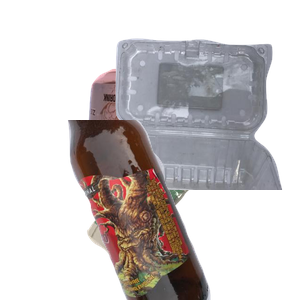glass: (65, 120, 300, 300)
metal: (82, 66, 270, 246)
plastic: (80, 36, 300, 216)
trash: (84, 133, 292, 300)
